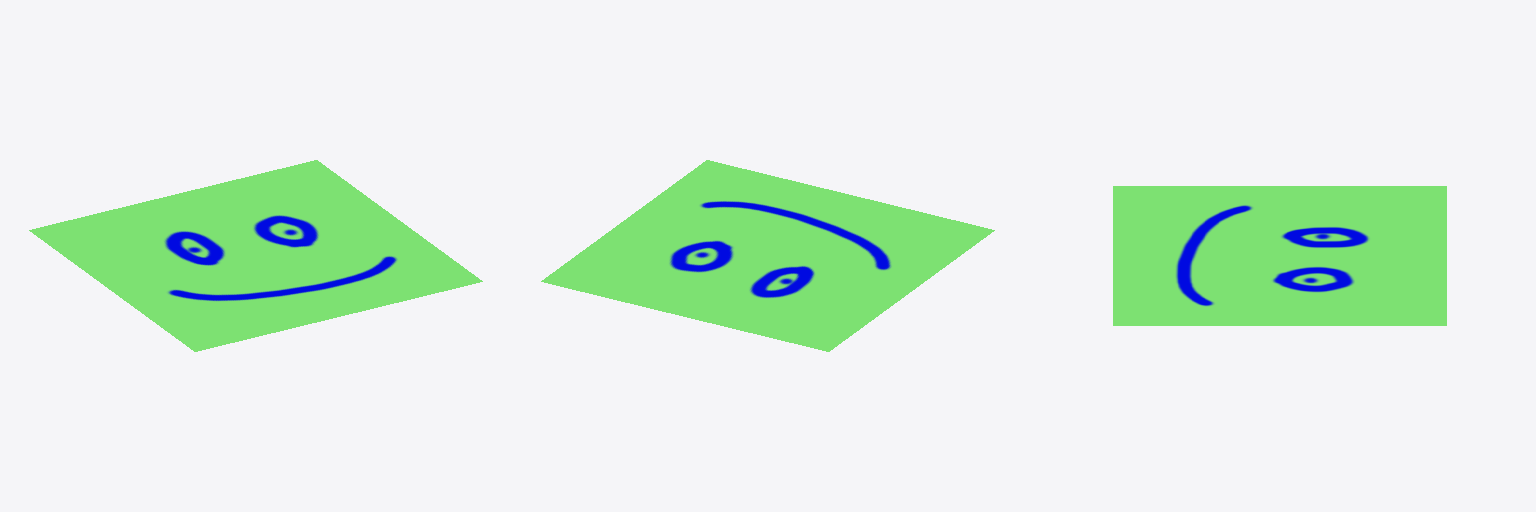
3 renders of one model, left to right at view 1: azimuth 30°, elevation 25°; view 2: azimuth 150°, elevation 25°; view 3: azimuth 270°, elevation 25°, orthographic.
Parts seen in each view (by area): view 1: Plane; view 2: Plane; view 3: Plane.
Boxes of the visible parts, box(x1,y1,x2,y2) form: Plane: box(29, 160, 482, 351); Plane: box(541, 160, 994, 351); Plane: box(1113, 186, 1446, 325).
Size of the model in its own units: 2 by 0 by 2.
Materials: 1 (1 with a texture image).